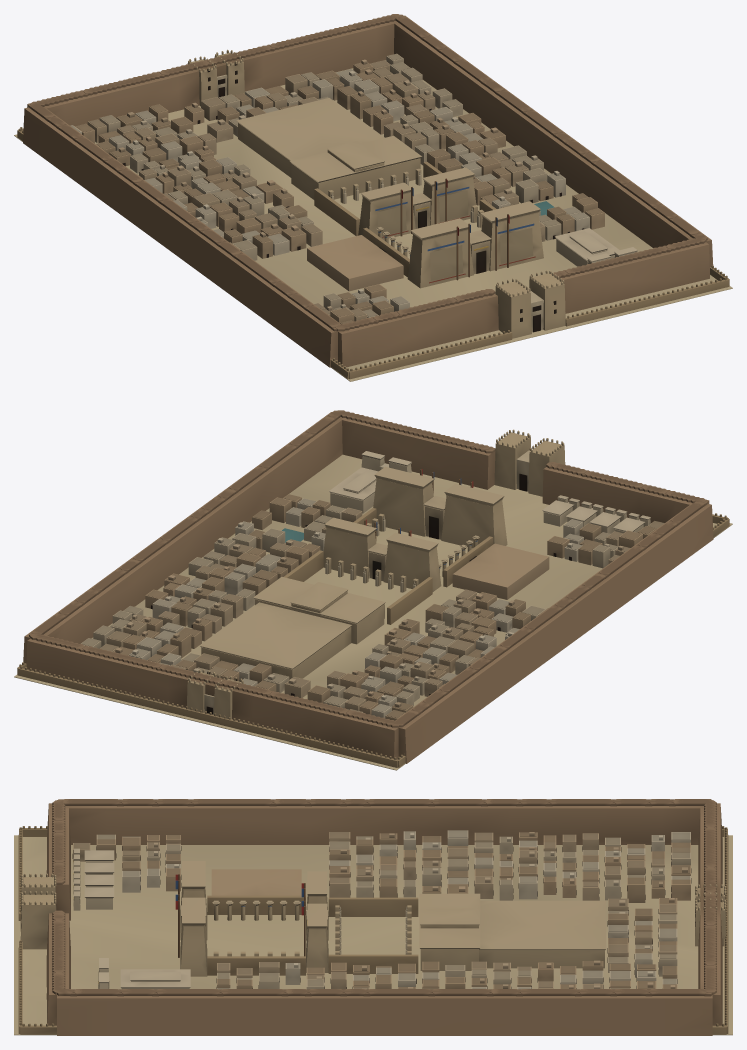
Rendered from medinet-habu-djeme.glb.
3 renders of one model, top to bottom at view 1: azimuth 30°, elevation 25°; view 2: azimuth 150°, elevation 25°; view 3: azimuth 270°, elevation 25°, orthographic. The views are drawn at different scales.
Parts seen in each view (by area): view 1: p0_walls, p3_town, p1_temple, p2_chapels; view 2: p0_walls, p1_temple, p3_town, p2_chapels; view 3: p0_walls, p3_town, p1_temple, p2_chapels.
Boxes of the visible parts, <box> form: p0_walls: <box>14,14,732,381</box>; p3_town: <box>70,53,604,324</box>; p1_temple: <box>187,49,637,338</box>; p2_chapels: <box>328,168,484,257</box>; p0_walls: <box>14,410,732,770</box>; p1_temple: <box>187,429,565,718</box>; p3_town: <box>81,494,664,720</box>; p2_chapels: <box>325,495,650,618</box>; p0_walls: <box>14,799,732,1035</box>; p3_town: <box>72,830,691,989</box>; p1_temple: <box>20,861,725,989</box>; p2_chapels: <box>73,848,411,956</box>.
Size of the model in its own units: 211 by 28.33 by 320.
